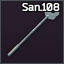Health Resort east wing office room 108 key: (0, 0, 64, 64)
